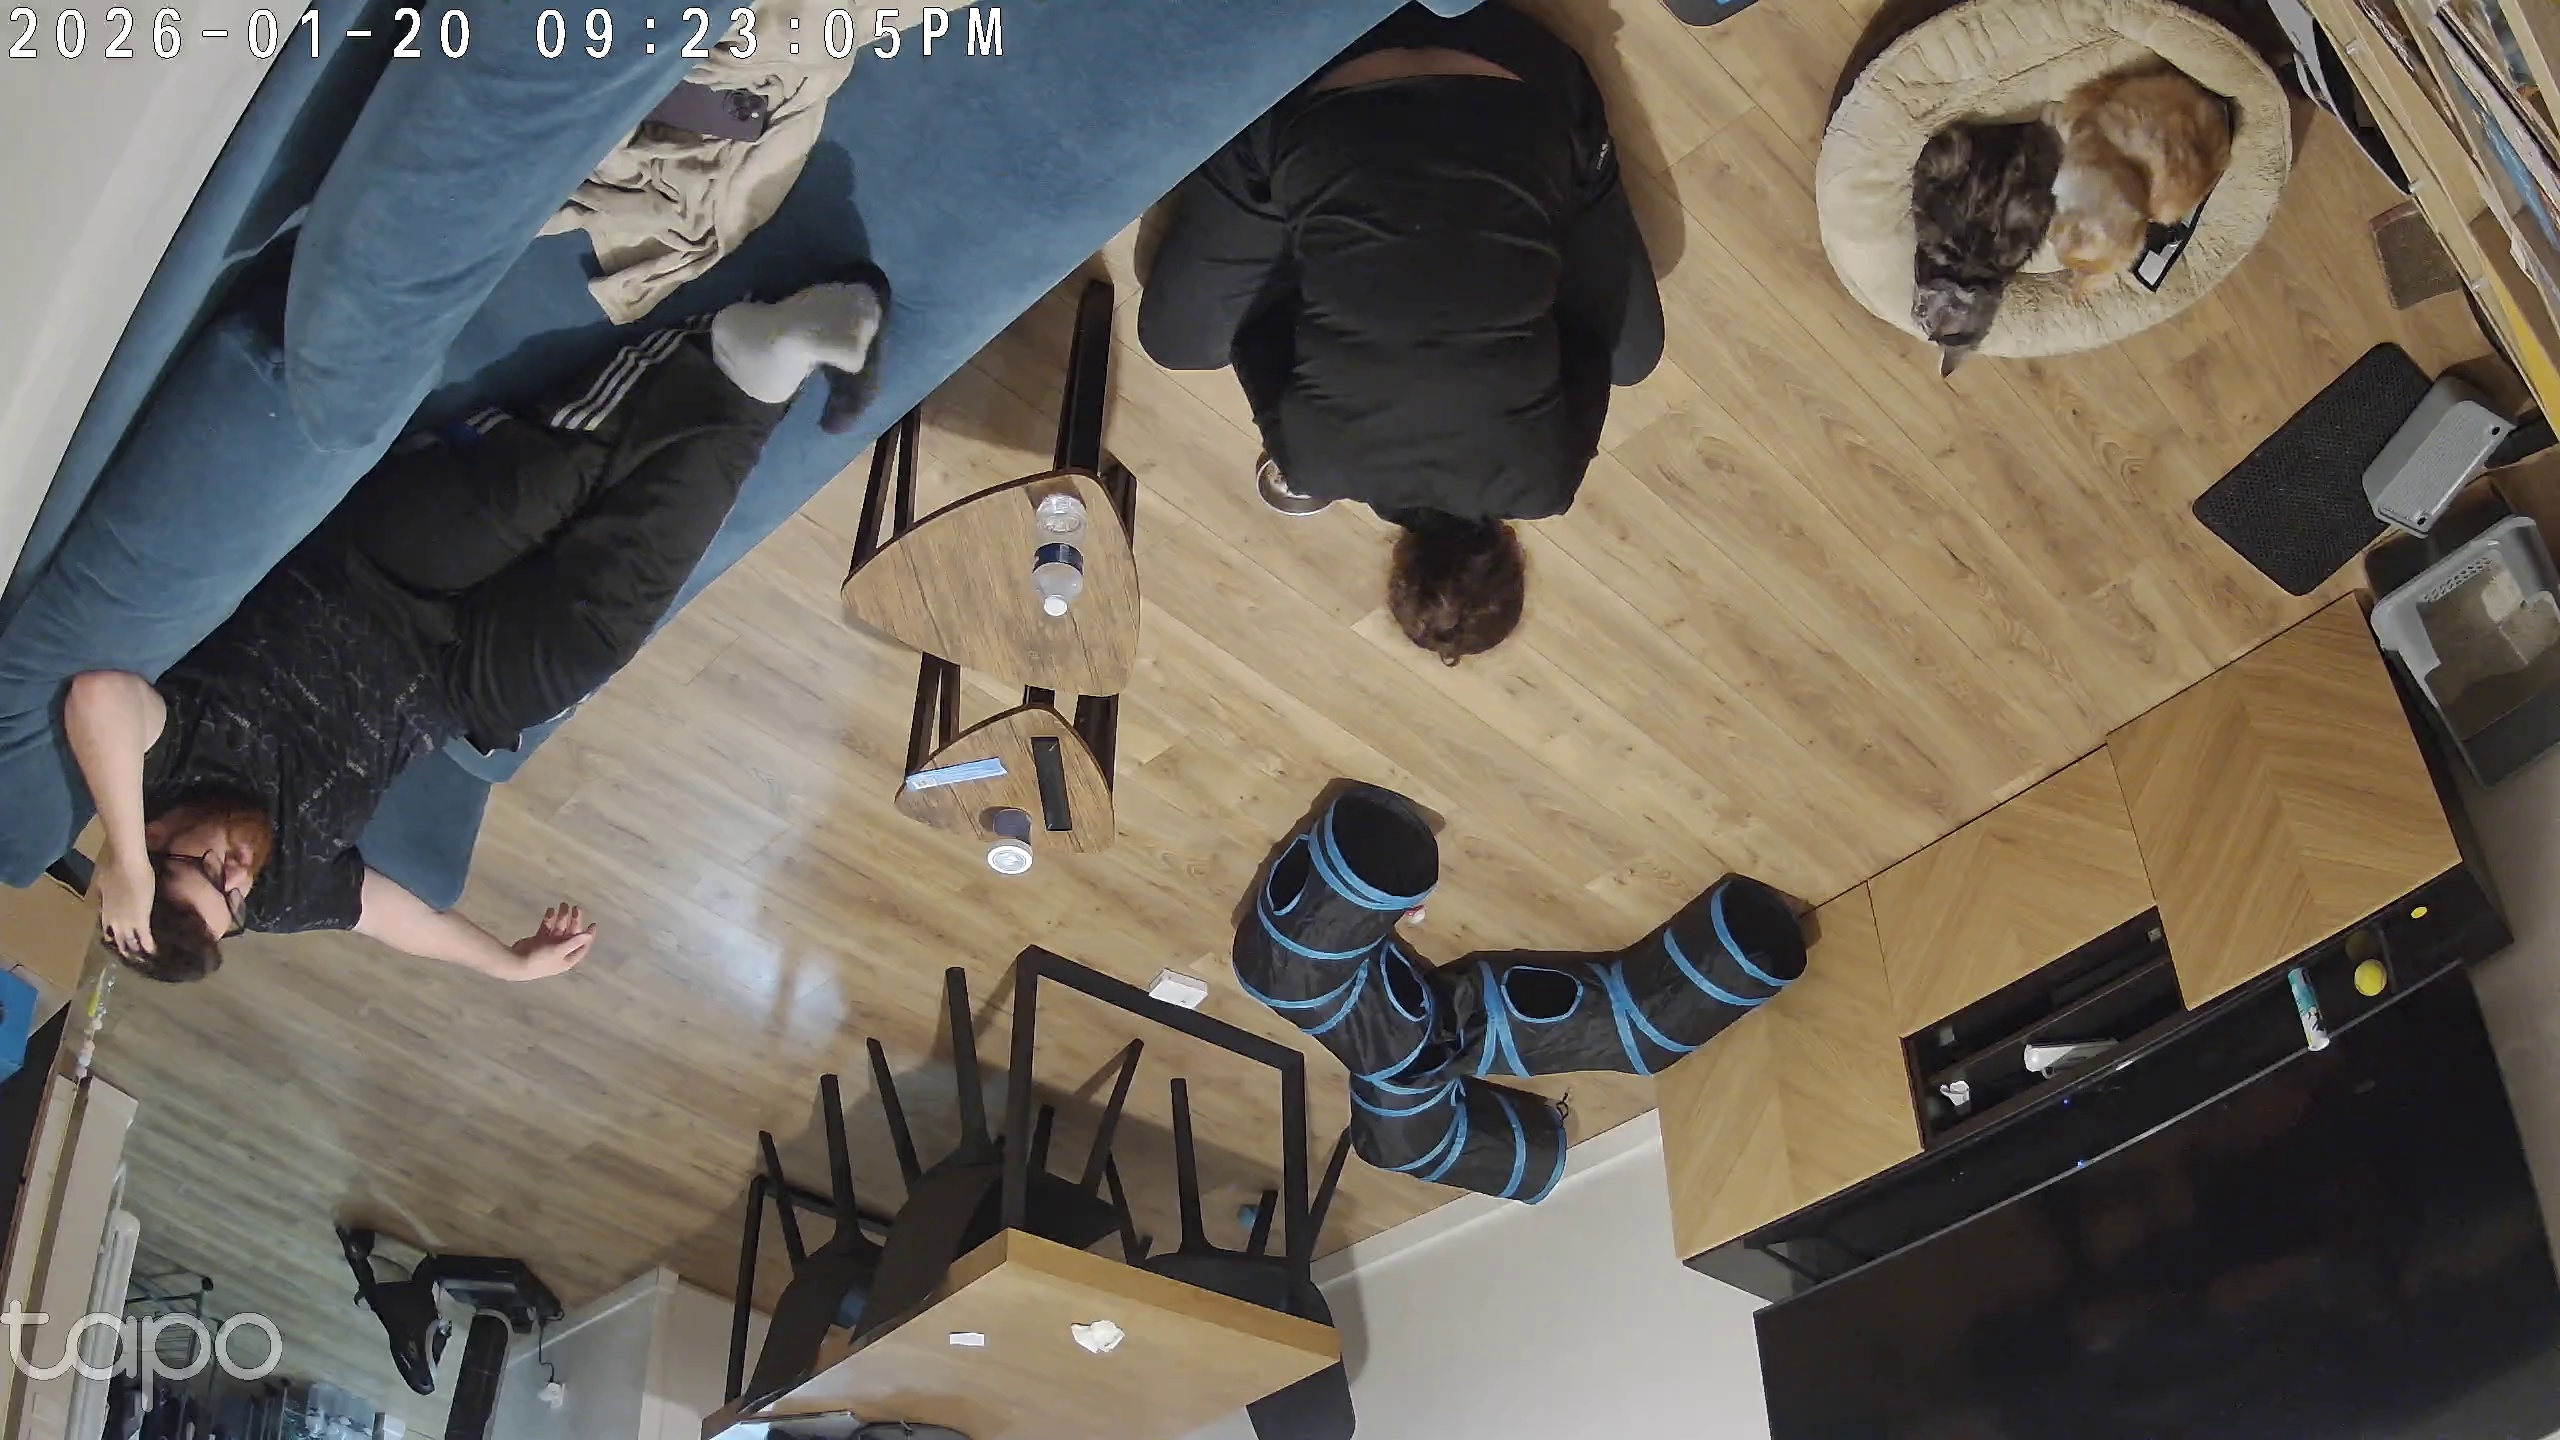Nala: (1894, 93, 2066, 390)
Simba: (2047, 39, 2258, 301)
